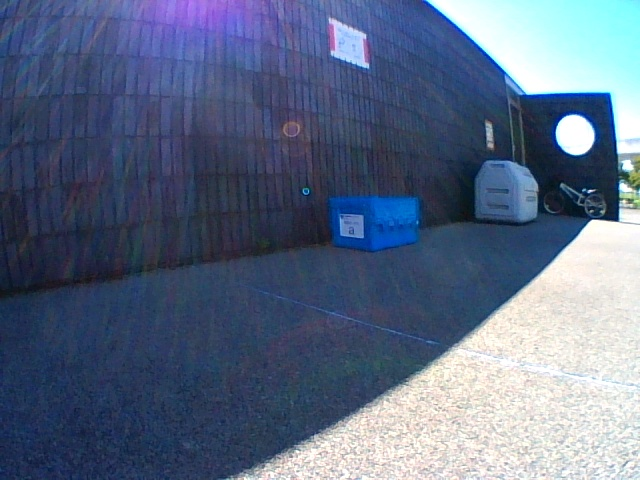blue_box: (330, 195, 418, 251)
tag_a: (342, 216, 362, 236)
